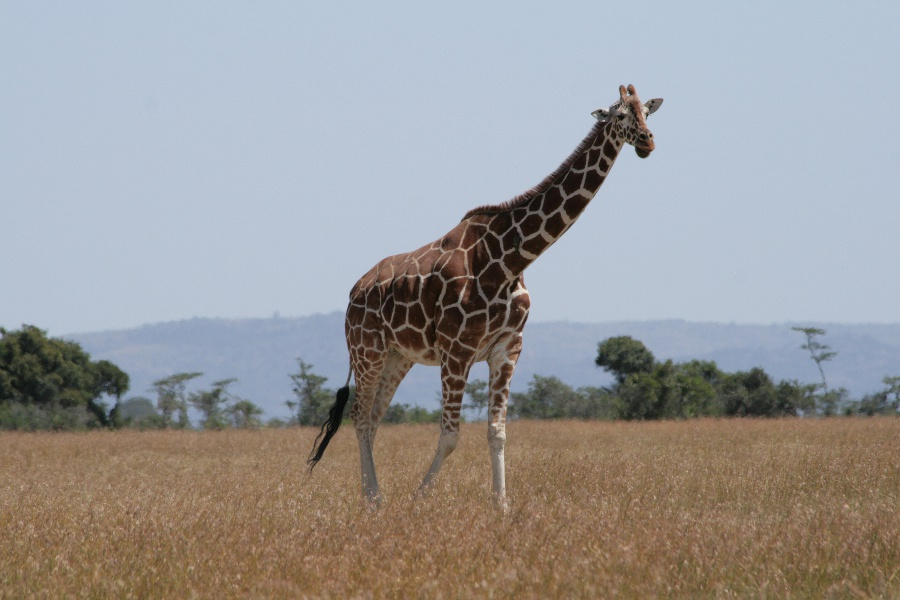giraffe: (309, 73, 671, 528)
